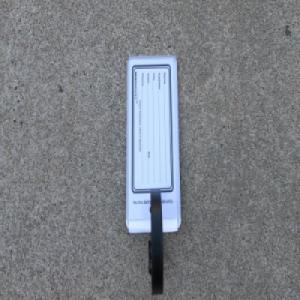LuggageTag: (124, 53, 181, 299)
